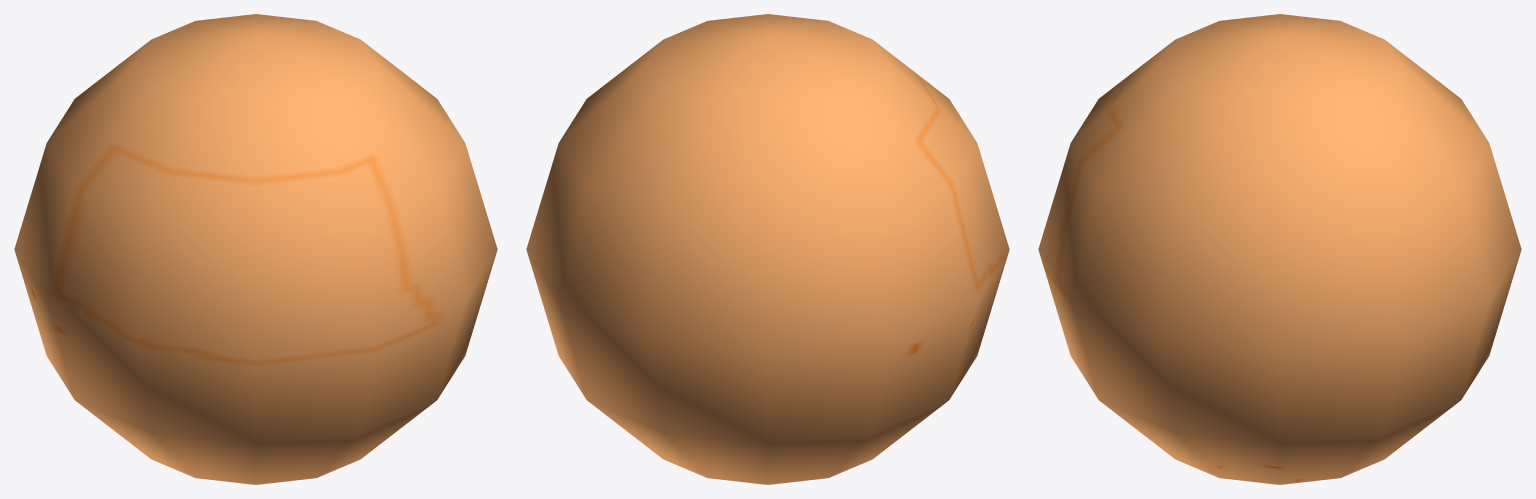
The model's file is Basketball.FBX.
3 renders of one model, left to right at view 1: azimuth 30°, elevation 25°; view 2: azimuth 150°, elevation 25°; view 3: azimuth 270°, elevation 25°, orthographic.
Parts seen in each view (by area): view 1: Basketball; view 2: Basketball; view 3: Basketball.
Boxes of the visible parts, x1,y1,x2,y2 form: Basketball: (14, 14, 497, 484); Basketball: (526, 14, 1009, 484); Basketball: (1038, 14, 1521, 484).
Bounding box in the file's own units: 10.93 × 10.63 × 10.93.
Materials: 1 (1 with a texture image).
